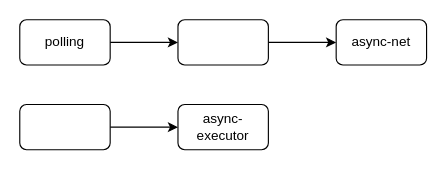
Some shapes in this 446 by 170 pixel diagram are drawn without their labels. Here are the shapes that lost their labels. From the top down, the centre of each, then its label:
At point (222, 42): "async-io".
At point (64, 126): "async-task".
